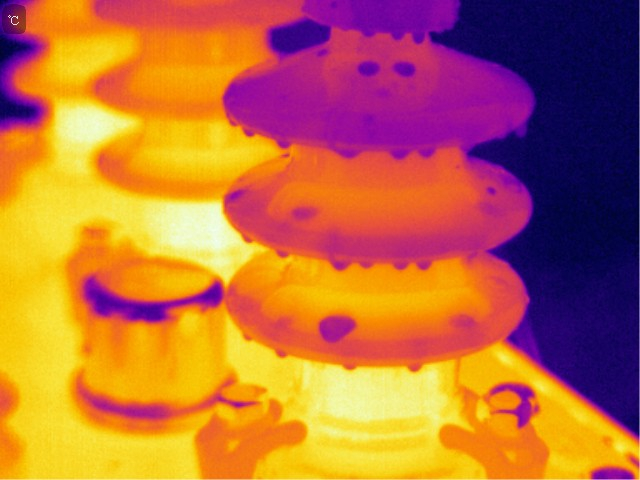Water: (312, 312, 359, 347), (222, 182, 252, 205), (392, 54, 417, 81), (391, 28, 426, 46), (416, 252, 439, 278), (352, 57, 378, 78), (415, 140, 438, 163), (388, 143, 414, 162), (337, 146, 367, 162), (291, 207, 322, 222), (512, 116, 529, 143), (356, 257, 379, 275), (330, 257, 352, 275), (392, 256, 410, 275), (238, 124, 257, 141), (237, 328, 254, 346), (273, 247, 294, 261), (271, 137, 296, 148), (341, 359, 358, 371), (404, 363, 424, 373), (484, 185, 499, 198), (274, 348, 289, 361), (362, 28, 377, 37), (315, 48, 327, 57)
